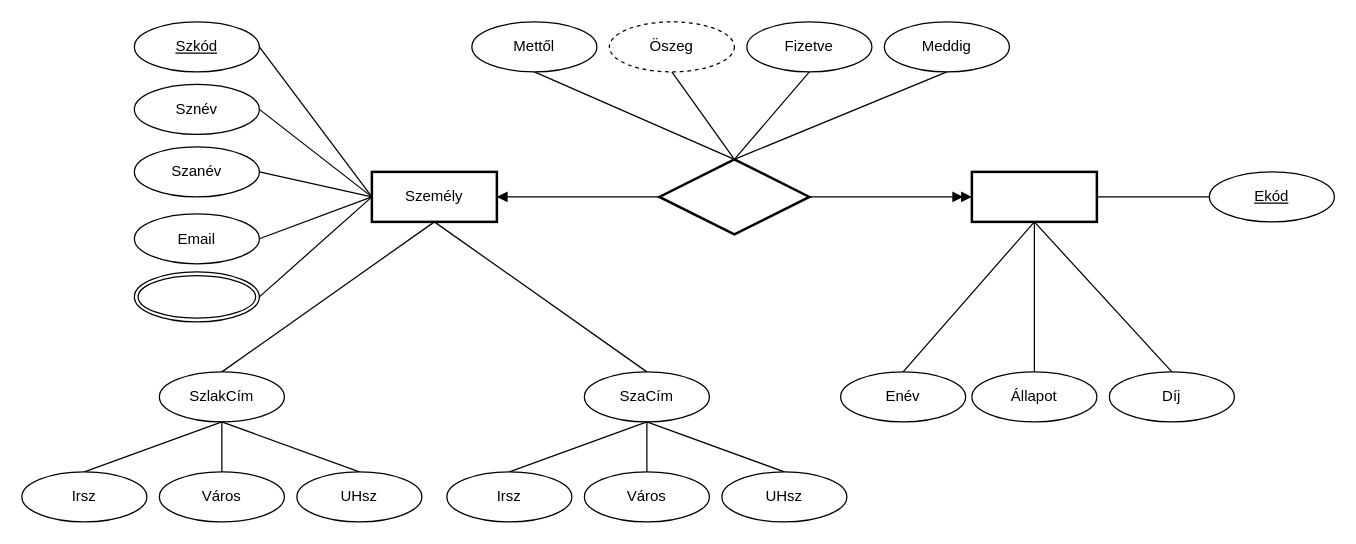
Image size: 1356x544. Some labels were removed from this diagram. Each missing label, with the centre of its shape:
"Eszköz" goes at point (1034, 196).
"Kölcsönzés" goes at point (734, 196).
"Telefon" goes at point (196, 296).
